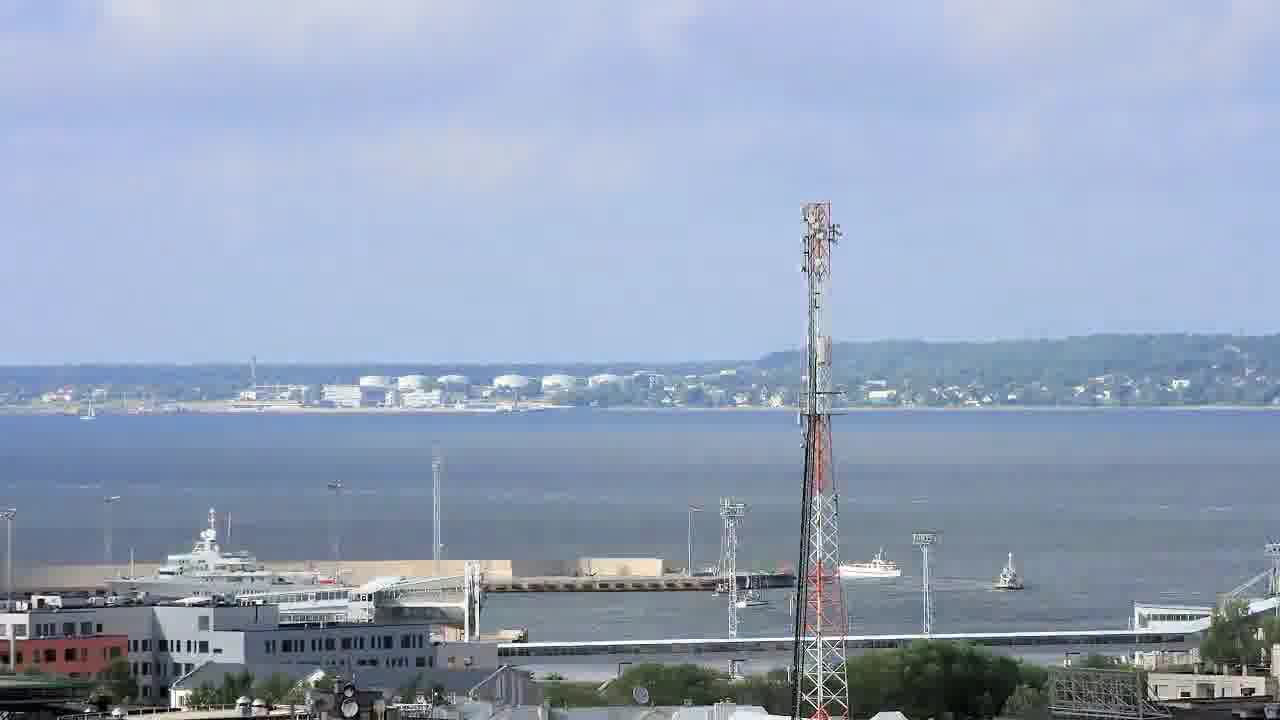type-0: (986, 552, 1032, 603)
type-1: (826, 543, 912, 584), (725, 576, 770, 619)
type-3: (83, 517, 370, 614)
